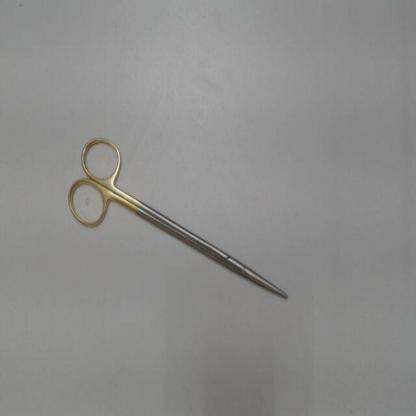7 Metzenbaum Scissors: (64, 131, 290, 304)
